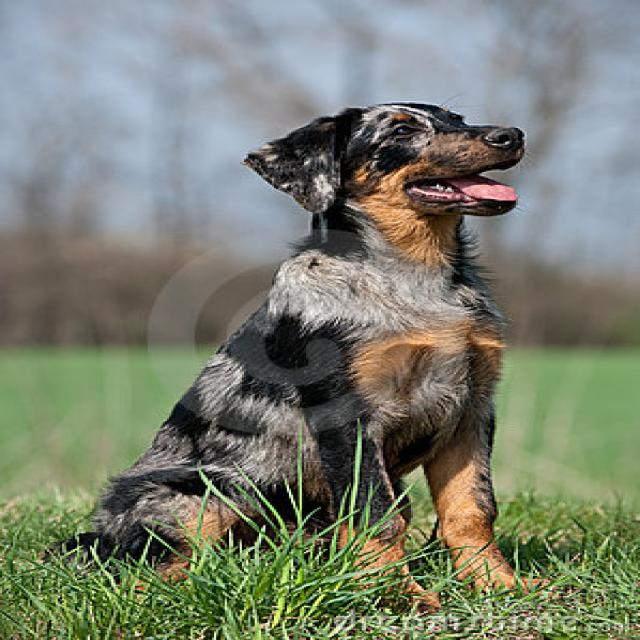dog: (168, 57, 596, 324)
